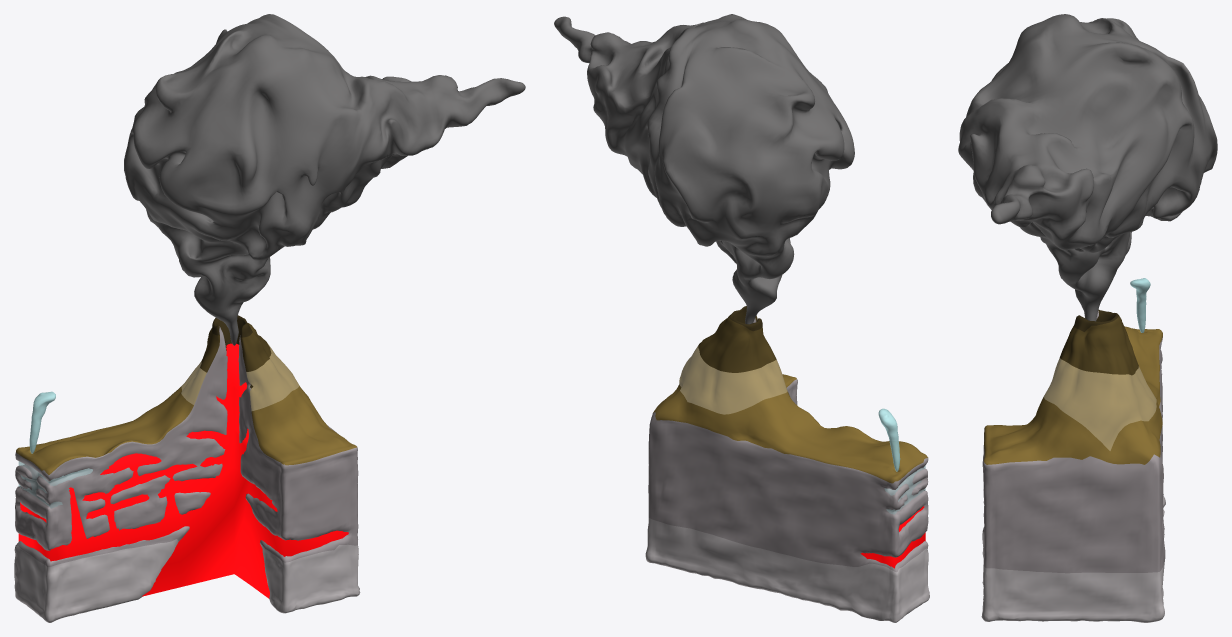
Rendered from earth_volcano.glb.
3 views of the same model, side by side, from view 1: azimuth 30°, elevation 25°; view 2: azimuth 150°, elevation 25°; view 3: azimuth 270°, elevation 25° (orthographic). The views are drawn at different scales.
Visible parts, largest first — view 1: Object_2, Object_5, Object_10, Object_4, Object_6, Object_7, Object_8, Object_3, Object_11; view 2: Object_2, Object_5, Object_4, Object_6, Object_7, Object_8, Object_3, Object_10; view 3: Object_2, Object_5, Object_4, Object_6, Object_7, Object_8, Object_3, Object_9.
Part boxes in pixels (x1=…): Object_2: x1=124, y1=14, x2=525, y2=345; Object_5: x1=15, y1=326, x2=358, y2=566; Object_10: x1=18, y1=343, x2=348, y2=598; Object_4: x1=14, y1=539, x2=360, y2=622; Object_6: x1=16, y1=386, x2=356, y2=474; Object_7: x1=181, y1=343, x2=299, y2=411; Object_8: x1=200, y1=323, x2=271, y2=372; Object_3: x1=29, y1=391, x2=55, y2=453; Object_11: x1=18, y1=461, x2=92, y2=508; Object_2: x1=554, y1=14, x2=854, y2=324; Object_5: x1=648, y1=318, x2=928, y2=572; Object_4: x1=645, y1=518, x2=929, y2=622; Object_6: x1=653, y1=374, x2=927, y2=483; Object_7: x1=679, y1=345, x2=787, y2=414; Object_8: x1=698, y1=316, x2=776, y2=372; Object_3: x1=878, y1=408, x2=900, y2=471; Object_10: x1=860, y1=506, x2=925, y2=568; Object_2: x1=958, y1=14, x2=1217, y2=321; Object_5: x1=982, y1=311, x2=1165, y2=573; Object_4: x1=981, y1=493, x2=1165, y2=622; Object_6: x1=983, y1=326, x2=1162, y2=464; Object_7: x1=1044, y1=358, x2=1156, y2=450; Object_8: x1=1059, y1=315, x2=1138, y2=375; Object_3: x1=1130, y1=278, x2=1150, y2=332; Object_9: x1=1074, y1=309, x2=1118, y2=331.
Size of the model in its own units: 6.09 by 7.3 by 2.97.
